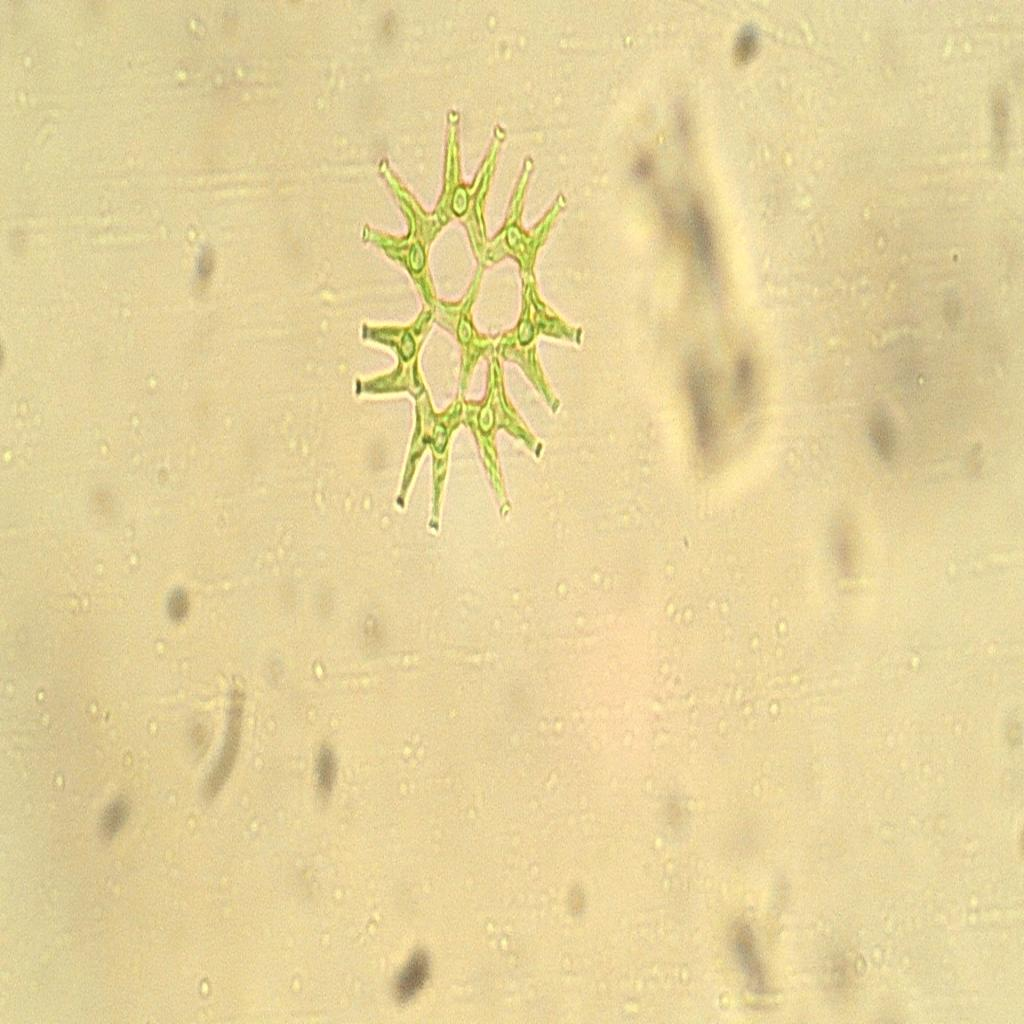Pediastrum_CTH: (336, 77, 592, 554)
